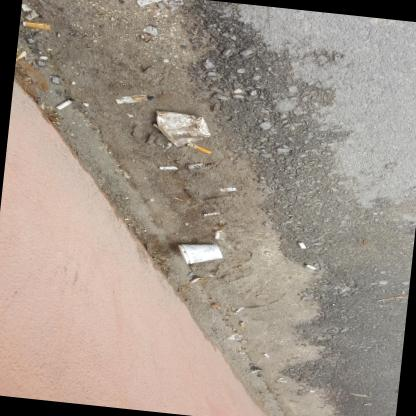Paper: (155, 109, 210, 145), (180, 243, 221, 262), (114, 93, 153, 102), (182, 141, 211, 153), (21, 18, 50, 28), (177, 243, 189, 263), (54, 97, 72, 108), (135, 0, 156, 5), (188, 275, 200, 281), (303, 262, 315, 268), (296, 240, 305, 247), (158, 165, 177, 168), (249, 367, 260, 372), (233, 306, 244, 311), (213, 229, 218, 238), (261, 351, 268, 356), (238, 319, 243, 326)
Waste: (142, 24, 156, 34), (159, 140, 171, 150), (187, 162, 202, 167), (218, 186, 236, 190), (202, 211, 220, 215), (163, 0, 182, 3), (275, 379, 285, 381)
